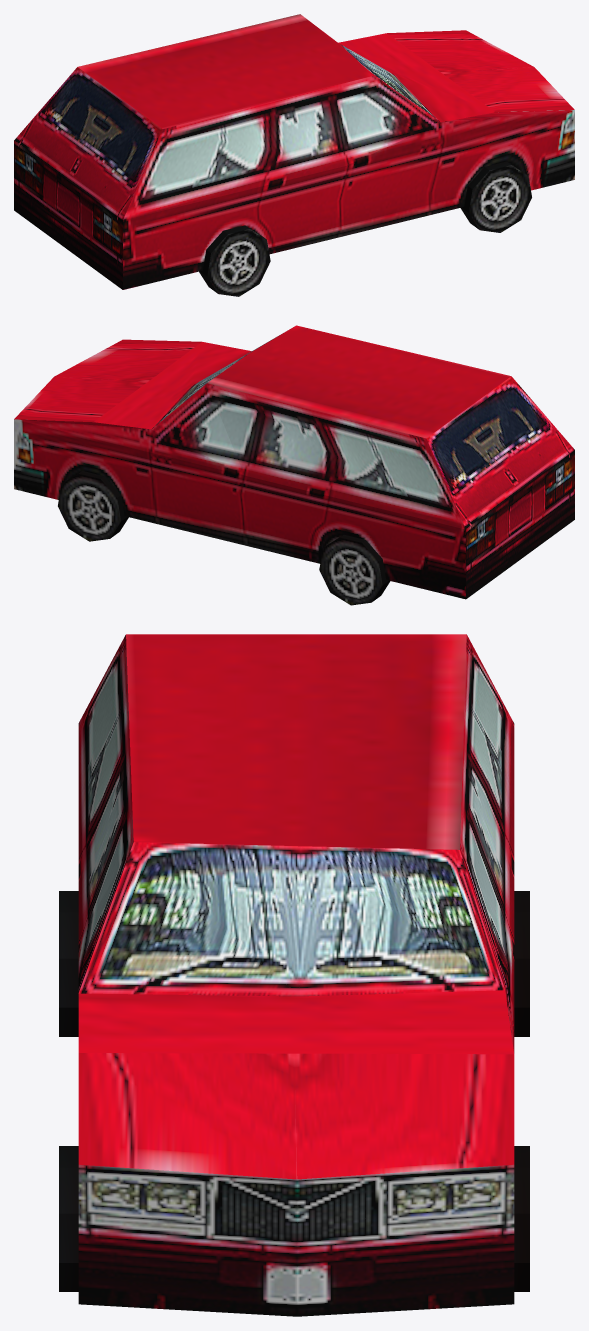
The model's file is Auto8rojo.fbx.
The picture shows the model from 3 angles, top to bottom: view 1: azimuth 30°, elevation 25°; view 2: azimuth 150°, elevation 25°; view 3: azimuth 270°, elevation 25°; orthographic projection. The views are drawn at different scales.
Parts seen in each view (by area): view 1: Car, Wheel2, Wheel1; view 2: Car, Wheel3, Wheel4; view 3: Car, Wheel1, Wheel2, Wheel3, Wheel4.
Boxes of the visible parts, bbox=[...] form: Car: bbox=[14, 14, 574, 289]; Wheel2: bbox=[199, 225, 270, 296]; Wheel1: bbox=[460, 161, 531, 232]; Car: bbox=[14, 325, 574, 599]; Wheel3: bbox=[319, 534, 390, 605]; Wheel4: bbox=[58, 471, 128, 541]; Car: bbox=[78, 634, 514, 1316]; Wheel1: bbox=[59, 1146, 78, 1291]; Wheel2: bbox=[59, 891, 78, 1036]; Wheel3: bbox=[514, 891, 529, 1036]; Wheel4: bbox=[514, 1146, 529, 1291].
Bounding box in the file's own units: 345 × 121 × 151.
